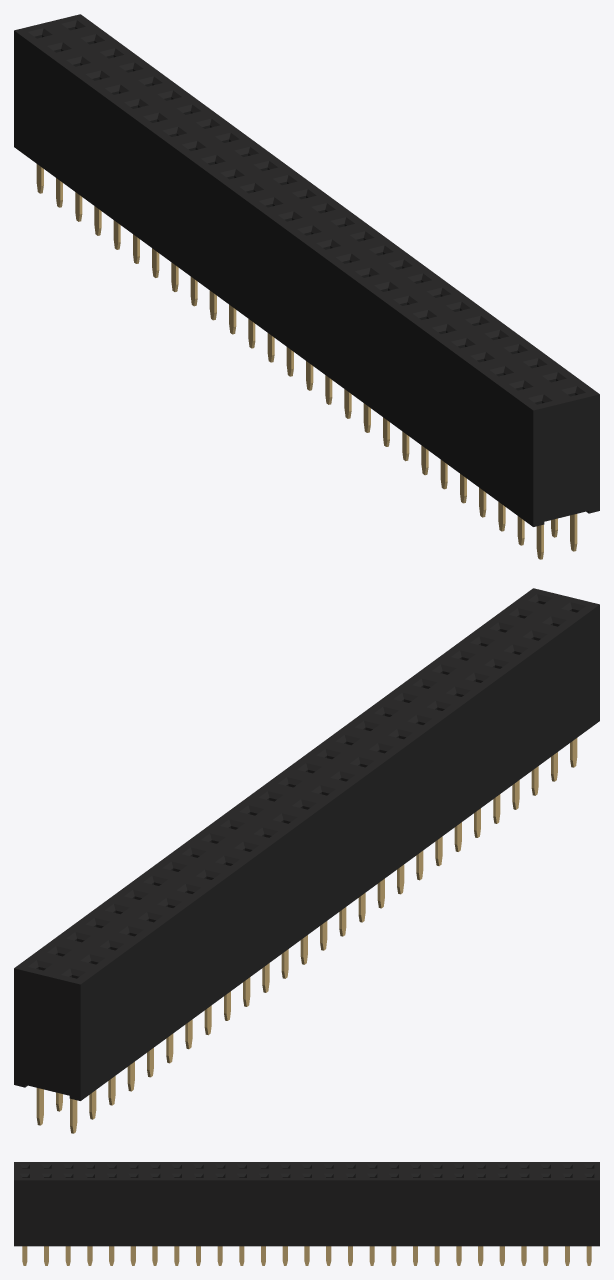
File: kc-pinsocket_2x27_p2.54mm_vertical.glb
3 renders of one model, top to bottom at view 1: azimuth 30°, elevation 25°; view 2: azimuth 150°, elevation 25°; view 3: azimuth 270°, elevation 25°, orthographic. The views are drawn at different scales.
Parts seen in each view (by area): view 1: 0_0_0_0, 0.75_0.5_0.25_0.9; view 2: 0_0_0_0, 0.75_0.5_0.25_0.9; view 3: 0_0_0_0, 0.75_0.5_0.25_0.9.
Part boxes in pixels (x1,y1,x2,y2): 0_0_0_0: (14,14,599,526); 0.75_0.5_0.25_0.9: (36,164,577,559); 0_0_0_0: (14,588,599,1100); 0.75_0.5_0.25_0.9: (36,738,577,1133); 0_0_0_0: (14,1162,599,1246); 0.75_0.5_0.25_0.9: (22,1246,591,1265).
Bounding box in the file's own units: 0.5082 × 1.16 × 6.86.
